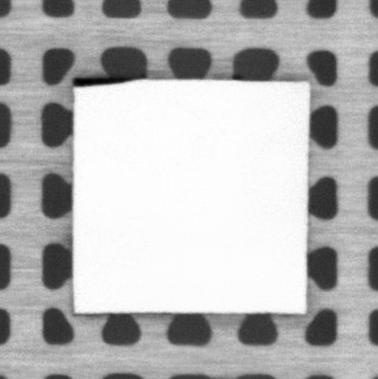DIE_BROKEN: (70, 75, 133, 87)
